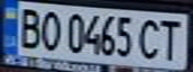0: (63, 10, 84, 54)
4: (81, 11, 103, 56)
5: (115, 14, 139, 58)
6: (96, 12, 121, 57)
B: (12, 4, 45, 50)
C: (136, 16, 166, 61)
O: (36, 8, 63, 52)
T: (157, 16, 187, 62)
